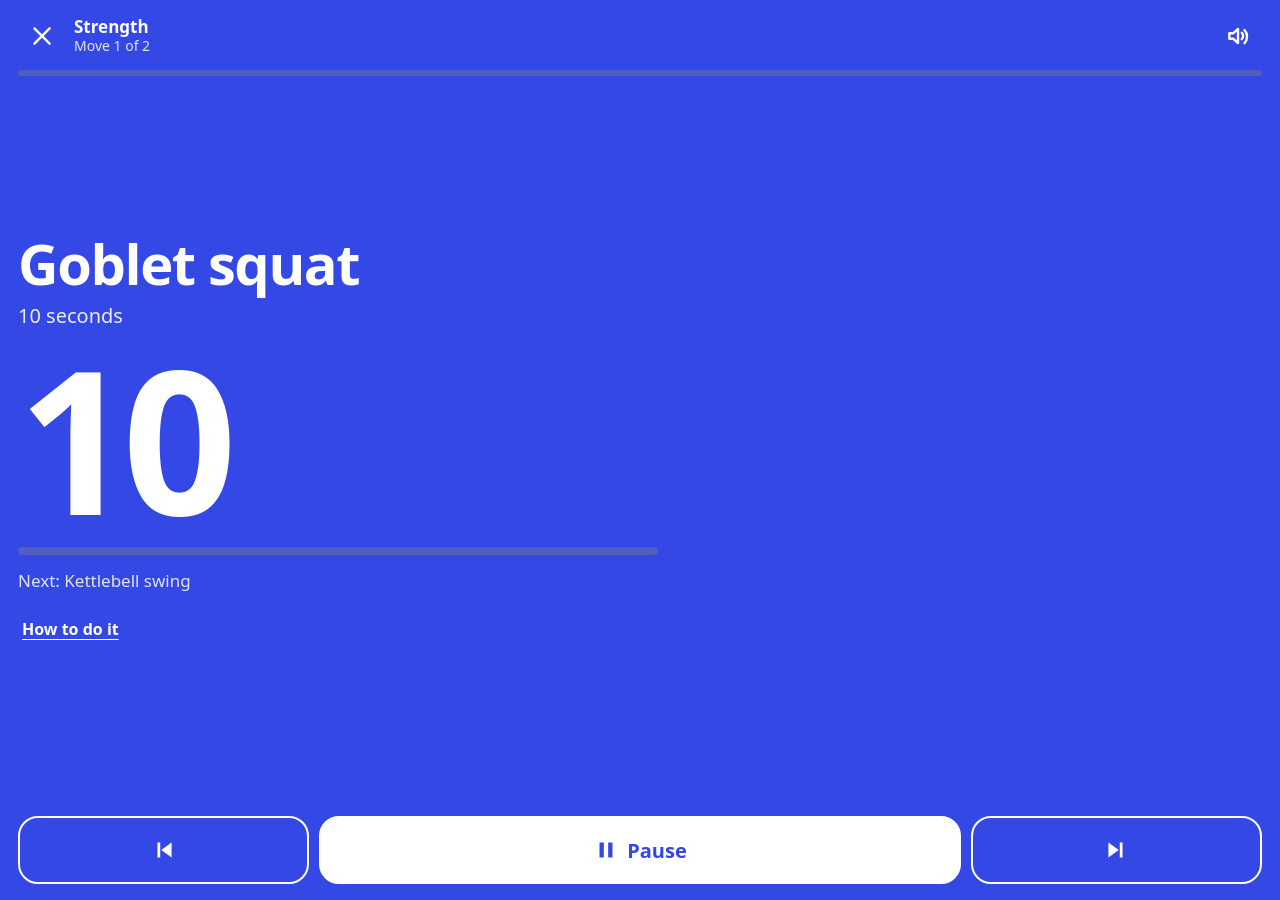
Test case: the player › shows how to do the exercise on request
This screenshot has width=1280, height=900.
Click the button "How to do it" at (70, 629), box [18,607,123,651]
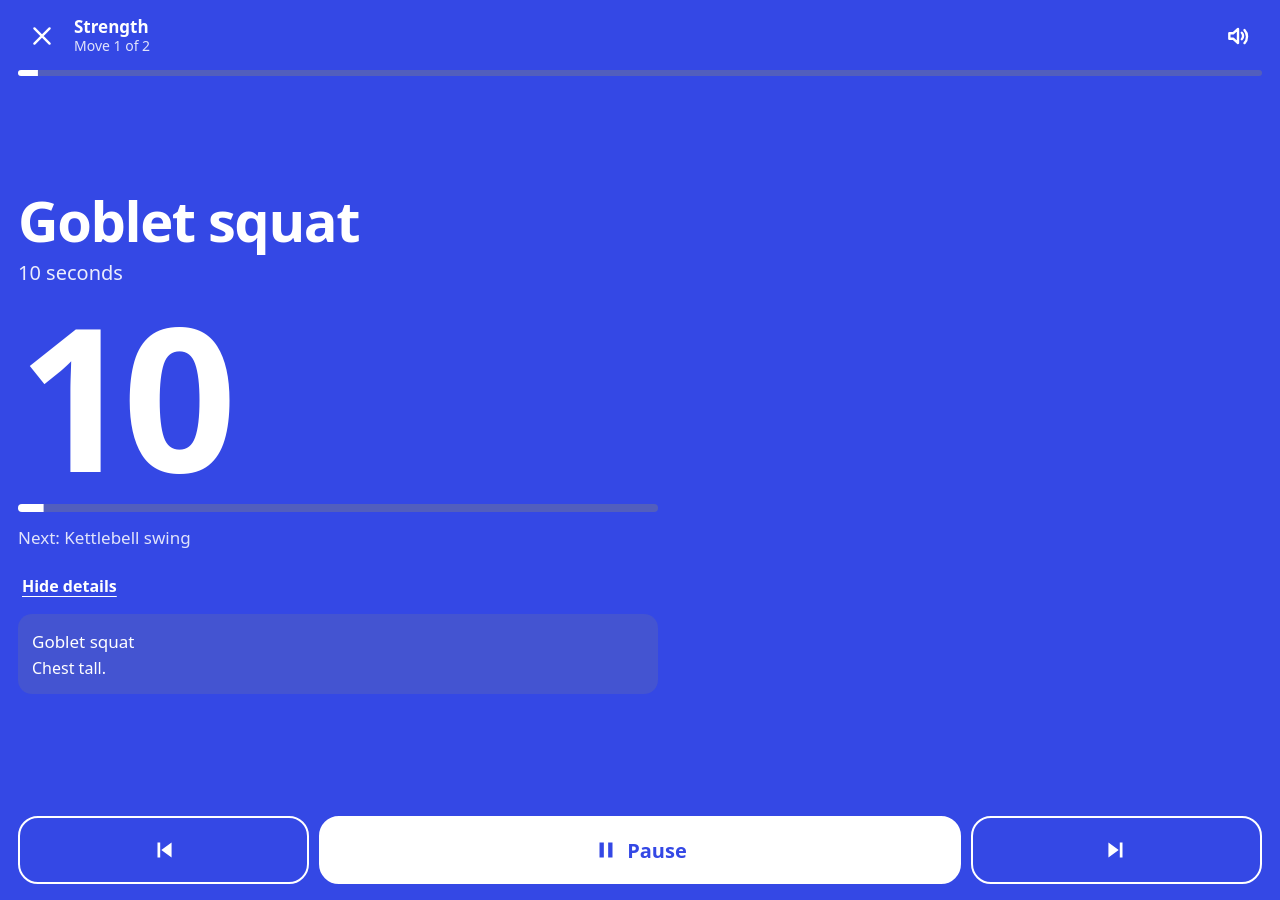
Now the text "Chest tall." is shown, box [32,657,106,679]
